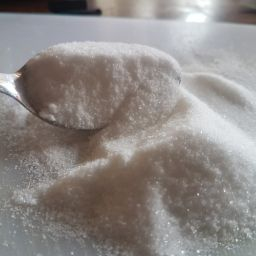Sugar: (2, 99, 256, 256), (15, 38, 192, 144), (141, 34, 256, 144)
